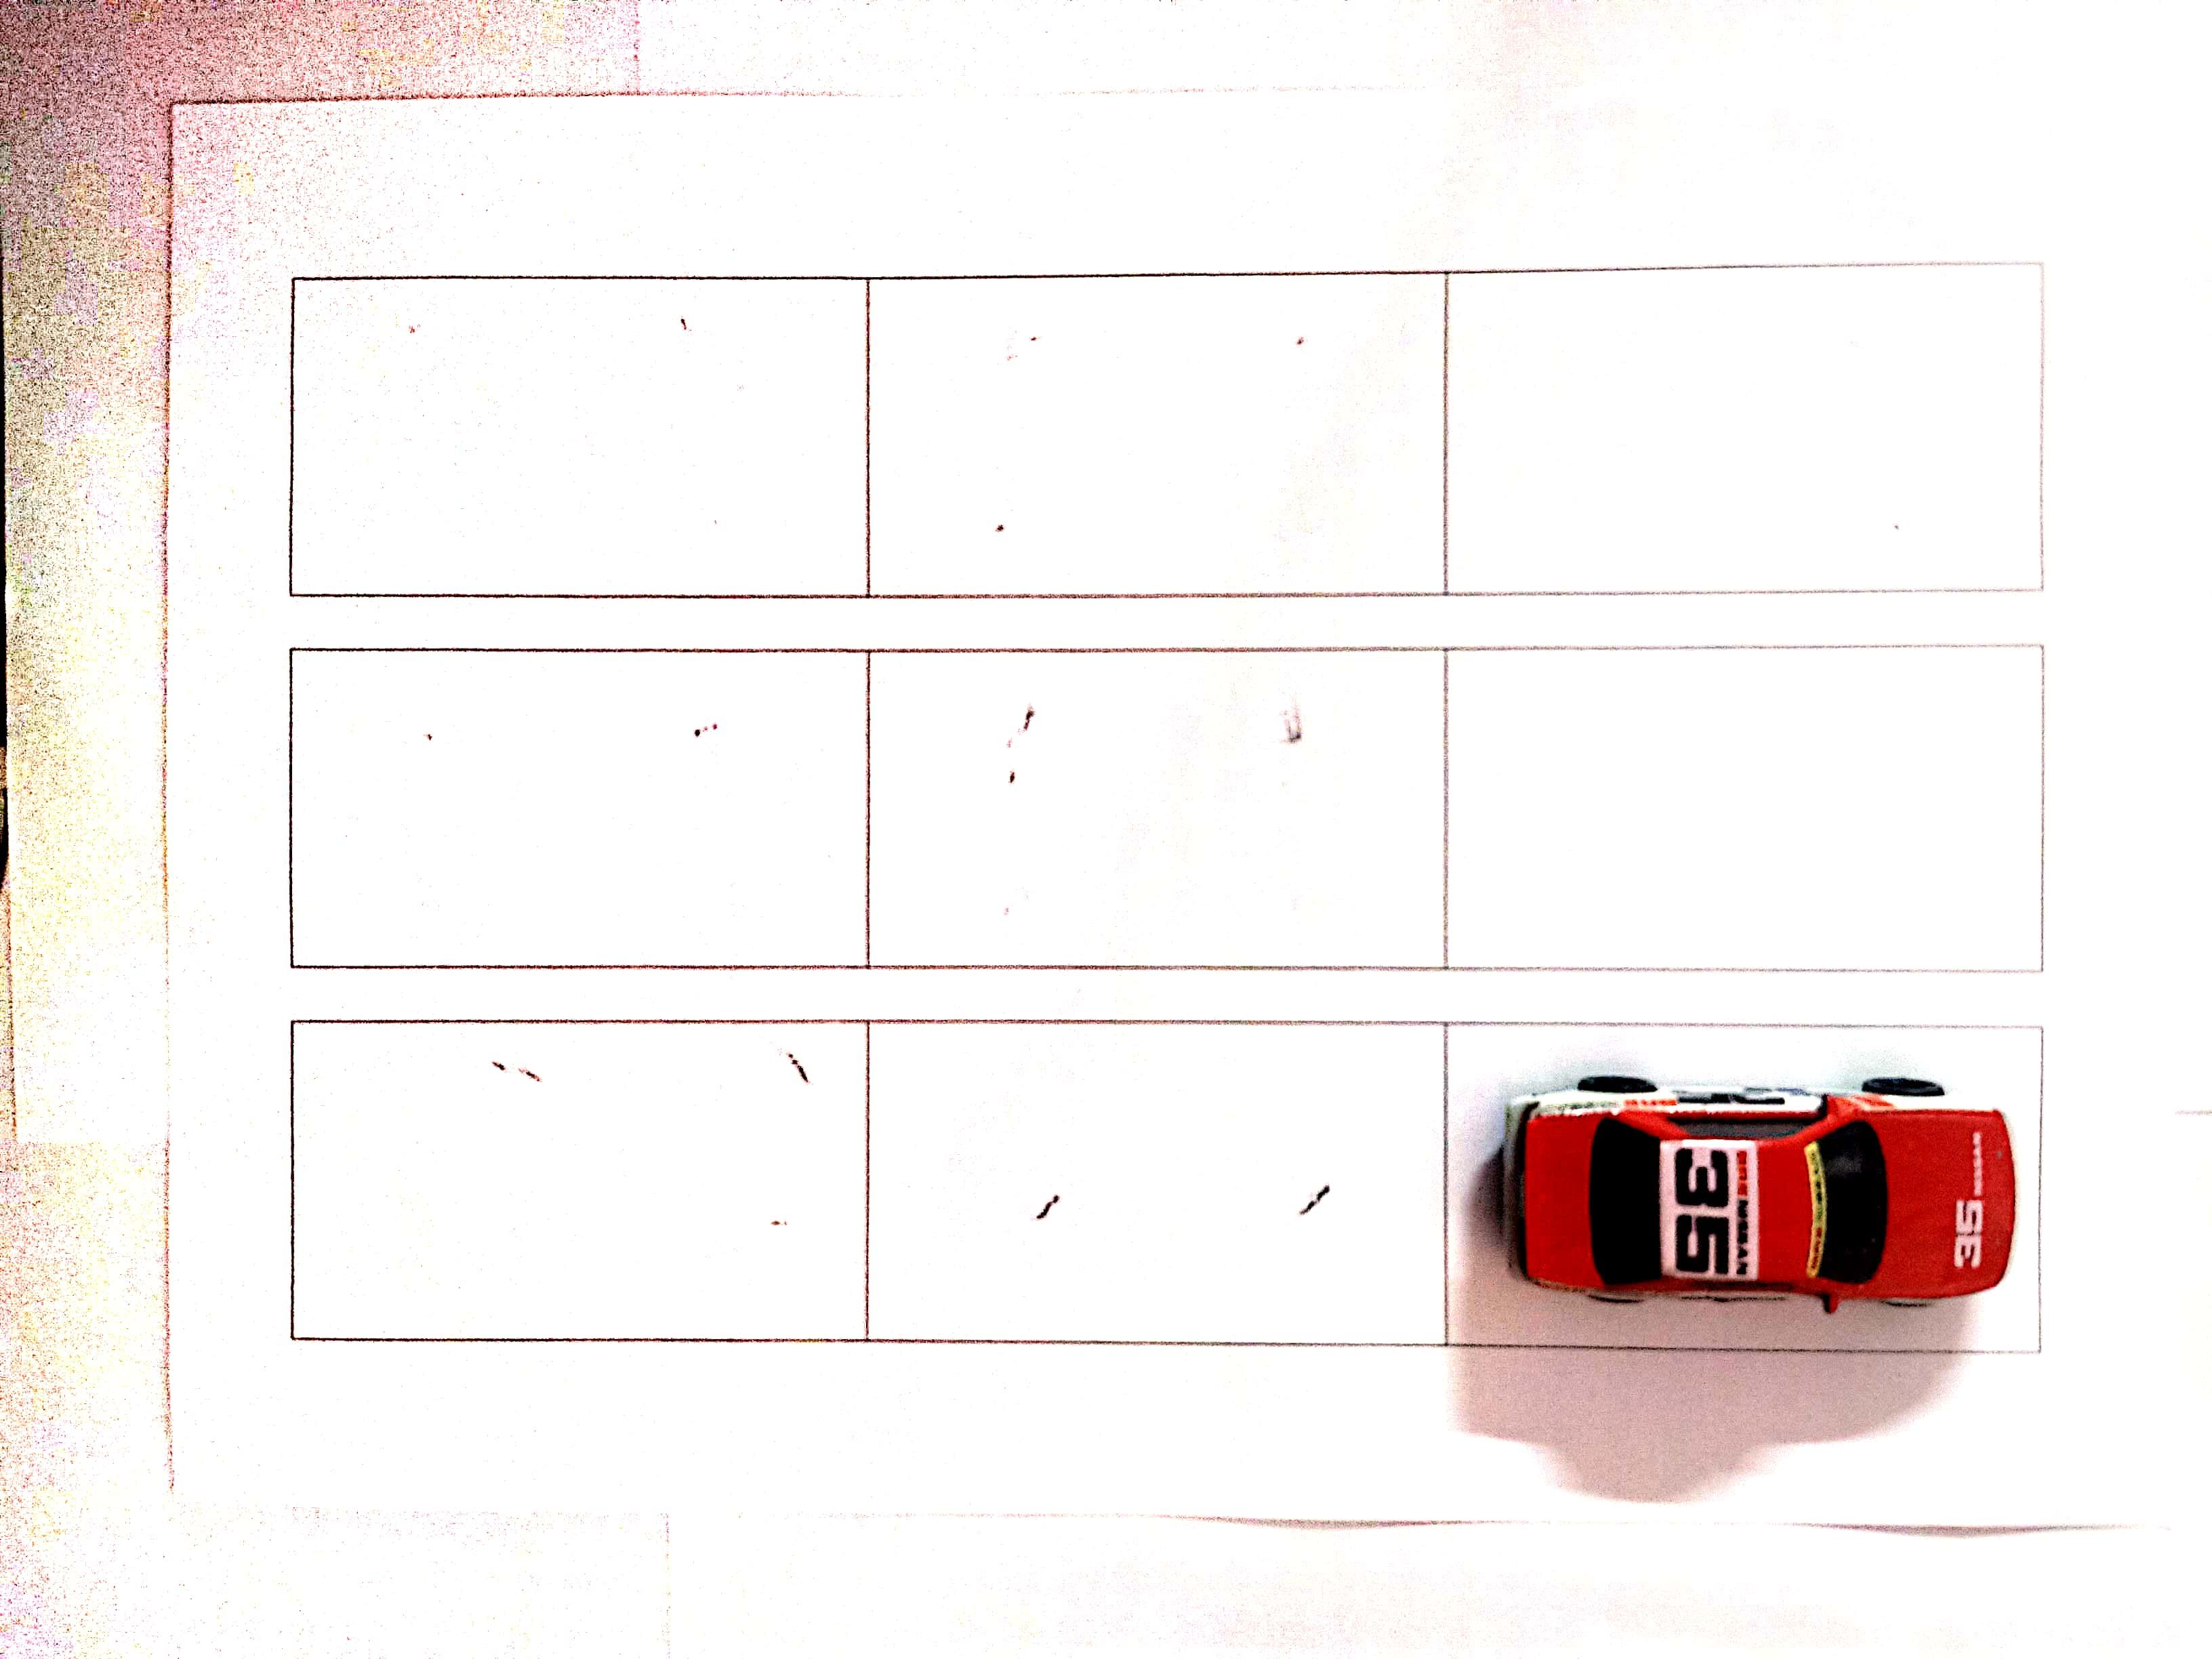Busy: (1446, 1028, 2045, 1345)
Free: (1446, 267, 2041, 589), (1446, 641, 2038, 964), (862, 275, 1442, 593), (296, 275, 862, 598), (286, 1019, 860, 1337), (869, 1028, 1446, 1340), (871, 653, 1440, 967), (287, 657, 862, 967)
